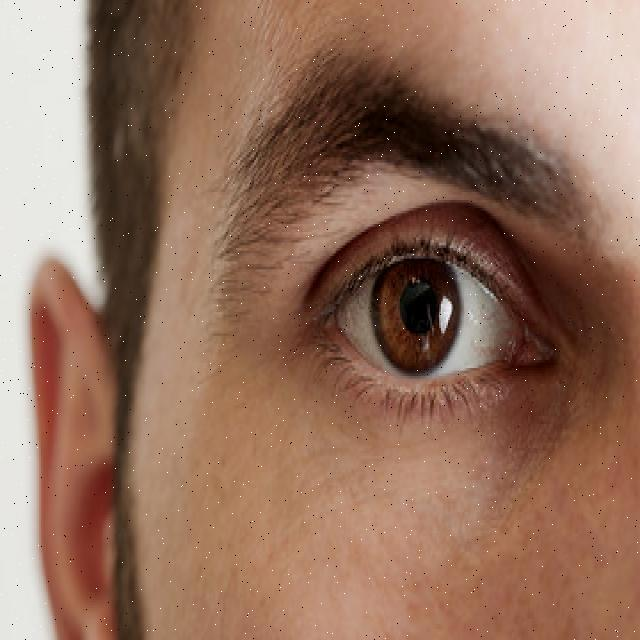Normal: (258, 184, 628, 466)
